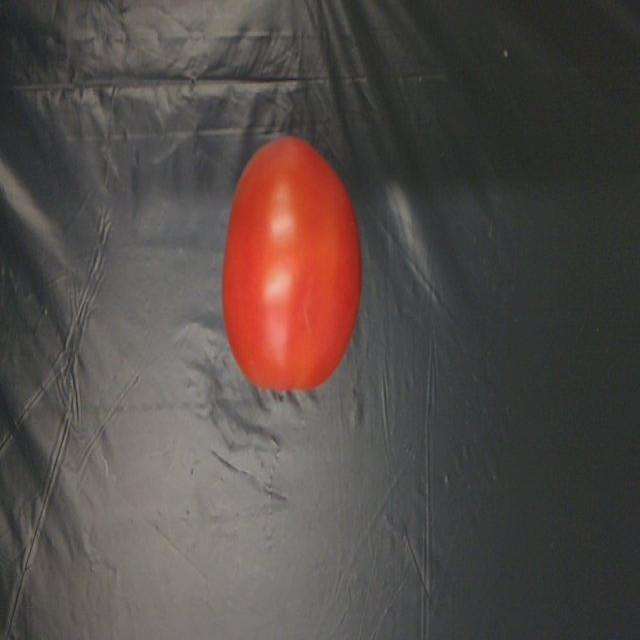kirmizi: (220, 118, 377, 404)
